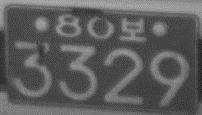0: (86, 15, 114, 39)
2: (103, 46, 145, 106)
3: (57, 43, 99, 102), (11, 39, 51, 100)
8: (55, 12, 82, 39)
9: (148, 49, 191, 106)
보: (118, 16, 147, 42)
